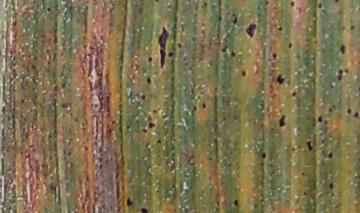tarspot: (157, 24, 169, 69), (243, 21, 259, 41), (52, 21, 59, 44), (275, 71, 285, 87), (304, 138, 314, 153), (230, 12, 239, 26), (338, 42, 347, 56), (279, 113, 286, 130), (325, 151, 335, 161), (126, 196, 135, 207), (60, 100, 71, 109), (315, 1, 324, 11), (334, 74, 345, 82), (274, 24, 283, 32), (147, 121, 156, 129), (315, 114, 323, 123), (327, 181, 336, 189), (220, 44, 229, 52), (66, 137, 74, 146), (260, 150, 267, 160), (200, 1, 208, 9), (9, 19, 17, 27), (200, 102, 207, 111), (240, 69, 247, 78), (336, 67, 345, 74), (139, 207, 149, 213), (107, 127, 113, 137), (289, 1, 296, 9), (232, 198, 239, 206), (82, 144, 90, 151), (287, 41, 293, 50), (271, 51, 277, 60), (353, 111, 359, 120), (151, 107, 158, 114), (346, 108, 353, 115), (344, 67, 351, 74), (67, 150, 74, 157), (289, 146, 296, 153), (168, 51, 174, 59), (146, 56, 154, 62), (349, 24, 355, 32), (339, 25, 347, 31), (140, 93, 146, 101), (229, 49, 235, 57), (291, 90, 297, 98), (329, 192, 337, 198), (19, 96, 25, 104), (59, 82, 67, 88), (328, 82, 336, 88), (217, 12, 222, 21), (144, 76, 150, 83), (176, 41, 182, 48), (263, 1, 270, 7), (192, 105, 198, 112), (323, 119, 330, 125), (52, 84, 58, 91), (182, 61, 189, 67), (300, 170, 306, 177), (140, 128, 148, 133), (44, 6, 52, 11), (332, 1, 341, 5), (156, 138, 162, 144), (110, 119, 116, 125), (327, 106, 333, 112), (152, 1, 161, 5), (187, 65, 193, 71), (98, 163, 103, 170), (125, 125, 131, 130), (331, 103, 336, 109), (98, 156, 103, 162), (302, 191, 306, 197), (74, 116, 78, 121)
